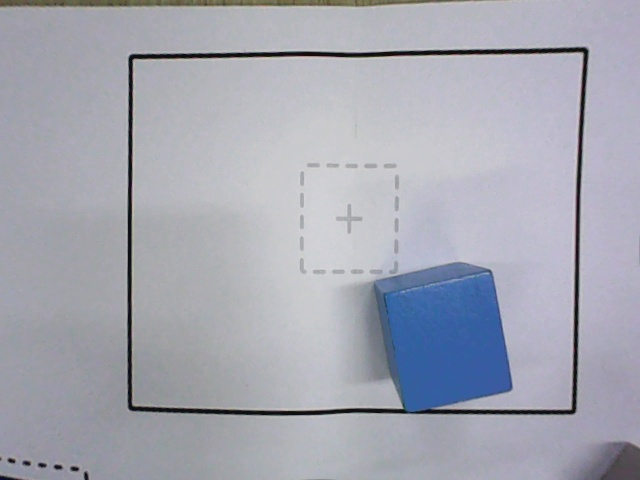upside of big cube: (383, 272, 514, 413)
